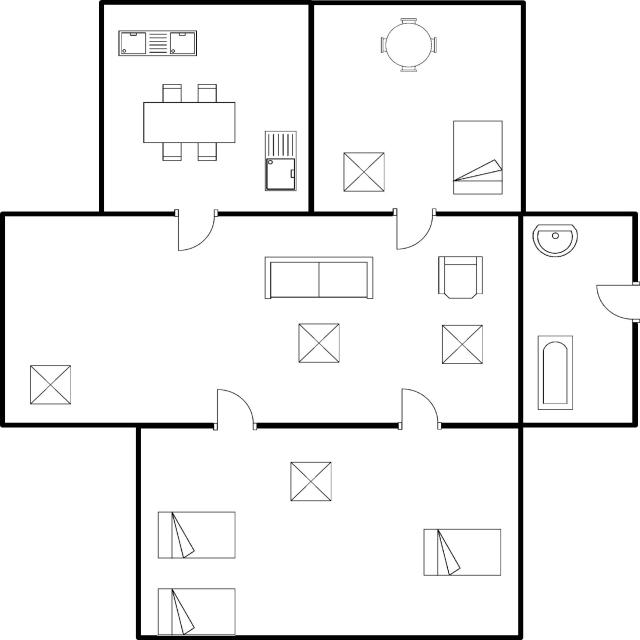armchair: (431, 251, 486, 303)
bed: (448, 116, 506, 201), (149, 508, 240, 562), (153, 582, 242, 637), (417, 524, 505, 578)
coffee_table: (337, 146, 389, 196), (25, 362, 77, 412), (284, 456, 336, 506), (294, 318, 344, 368), (437, 321, 488, 366)
dining_table: (138, 80, 241, 164)
large_sofa: (256, 250, 379, 303)
round_table: (373, 12, 445, 78)
sink: (260, 128, 300, 195)
small_sink: (528, 221, 582, 260)
tub: (530, 329, 579, 416)
twin_sink: (112, 24, 200, 62)
